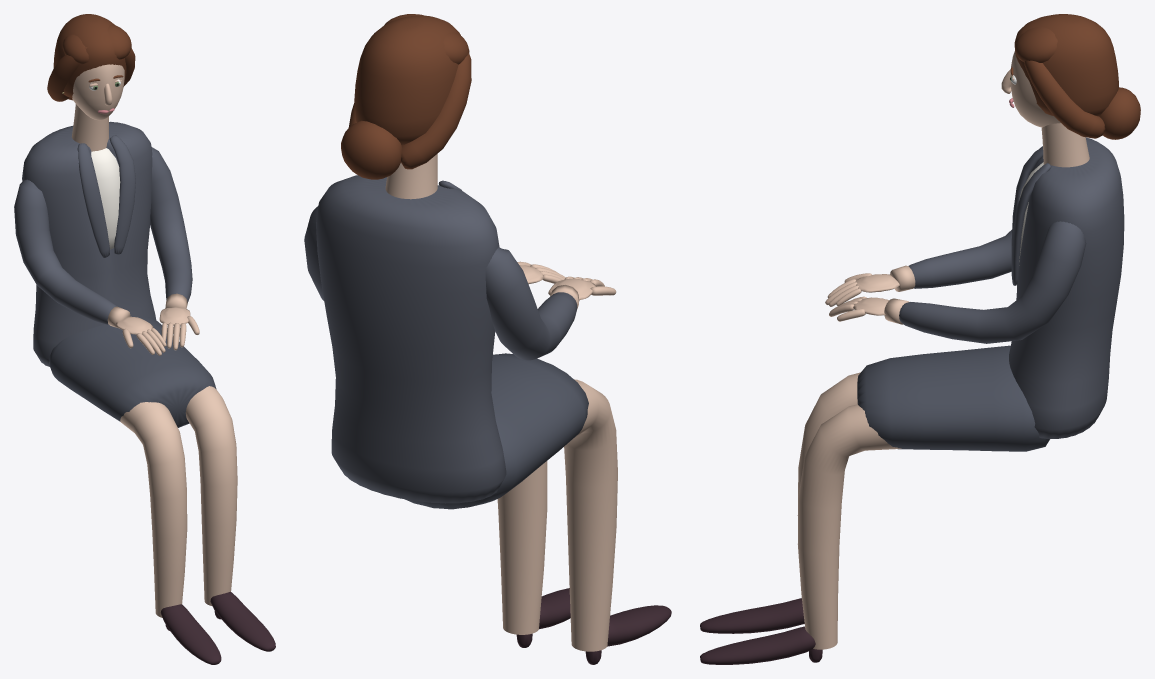
File: Businesswoman.fbx
3 views of the same model, side by side, from view 1: azimuth 30°, elevation 25°; view 2: azimuth 150°, elevation 25°; view 3: azimuth 270°, elevation 25° (orthographic). The views are drawn at different scales.
Parts seen in each view (by area): view 1: Businesswoman_Blazer, Businesswoman_Skirt, Businesswoman_Leg_R, Businesswoman_Leg_L, Businesswoman_Arm_R, Businesswoman_Arm_L, Businesswoman_HairCap, Businesswoman_Head, Businesswoman_Shoe_L, Businesswoman_Shoe_R, Businesswoman_Lapel_R, Businesswoman_Blouse (+7 smaller); view 2: Businesswoman_Blazer, Businesswoman_Leg_R, Businesswoman_HairCap, Businesswoman_Skirt, Businesswoman_Leg_L, Businesswoman_Arm_R, Businesswoman_HairBun, Businesswoman_HairSweep_R, Businesswoman_Shoe_R, Businesswoman_Neck, Businesswoman_Shoe_L, Businesswoman_Arm_L (+1 smaller); view 3: Businesswoman_Blazer, Businesswoman_Skirt, Businesswoman_Leg_L, Businesswoman_Arm_L, Businesswoman_HairCap, Businesswoman_Arm_R, Businesswoman_Shoe_L, Businesswoman_Shoe_R, Businesswoman_HairSweep_L, Businesswoman_Leg_R, Businesswoman_Neck, Businesswoman_HairBun (+4 smaller).
Boxes of the visible parts, x1,y1,x2,y2 form: Businesswoman_Blazer: (22,121,156,366); Businesswoman_Skirt: (49,316,216,427); Businesswoman_Leg_R: (120,402,187,617); Businesswoman_Leg_L: (185,386,237,606); Businesswoman_Arm_R: (14,179,116,324); Businesswoman_Arm_L: (150,147,192,302); Businesswoman_HairCap: (53,14,126,98); Businesswoman_Head: (72,64,124,120); Businesswoman_Shoe_L: (210,591,275,651); Businesswoman_Shoe_R: (160,604,221,664); Businesswoman_Lapel_R: (77,143,109,257); Businesswoman_Blouse: (91,148,120,249); Businesswoman_Blazer: (316,175,506,503); Businesswoman_Leg_R: (564,379,617,651); Businesswoman_HairCap: (354,15,460,144); Businesswoman_Skirt: (405,353,588,509); Businesswoman_Leg_L: (497,461,547,634); Businesswoman_Arm_R: (485,247,577,360); Businesswoman_HairBun: (341,120,402,179); Businesswoman_HairSweep_R: (401,32,471,169); Businesswoman_Shoe_R: (607,605,671,646); Businesswoman_Neck: (385,154,437,199); Businesswoman_Shoe_L: (539,588,570,629); Businesswoman_Arm_L: (304,206,323,300); Businesswoman_Blazer: (1009,137,1124,438); Businesswoman_Skirt: (857,345,1049,451); Businesswoman_Leg_L: (797,404,901,649); Businesswoman_Arm_L: (899,221,1086,343); Businesswoman_HairCap: (1014,14,1118,116); Businesswoman_Arm_R: (908,229,1012,288); Businesswoman_Shoe_L: (700,626,815,664); Businesswoman_Shoe_R: (700,598,804,633); Businesswoman_HairSweep_L: (1024,60,1105,138); Businesswoman_Leg_R: (797,372,860,515); Businesswoman_Neck: (1041,123,1089,167); Businesswoman_HairBun: (1099,87,1140,139).
Bounding box in the file's own units: 0.4022 × 1.28 × 0.8121.
